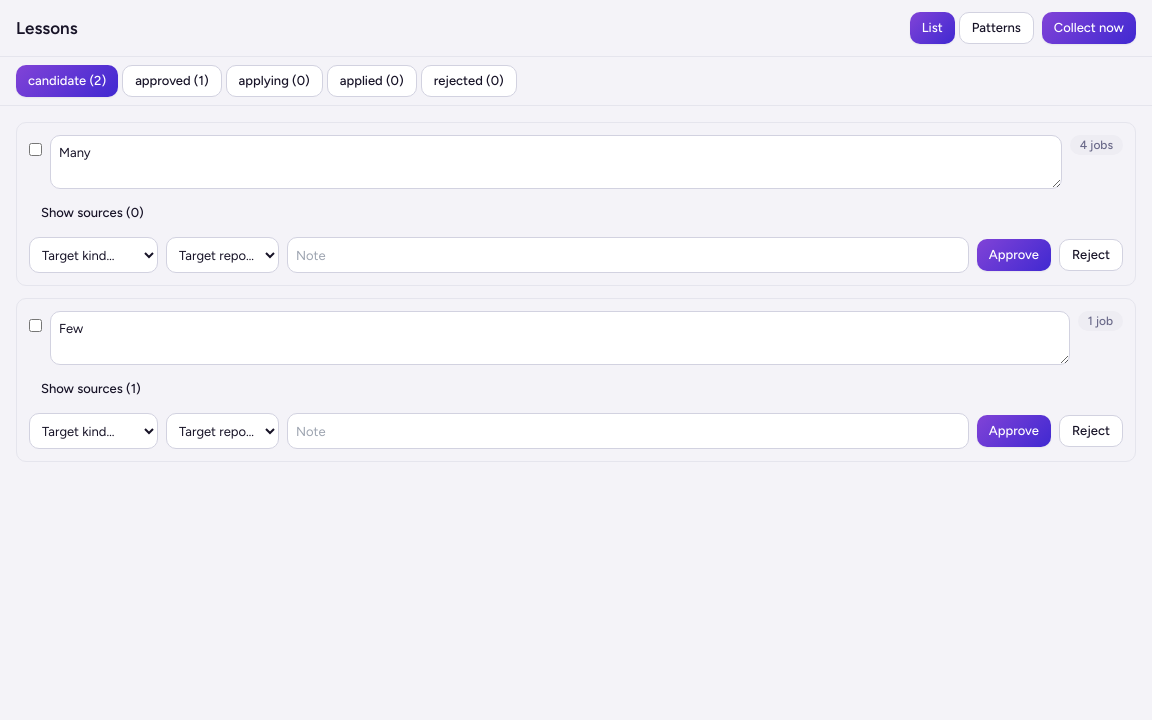
Test: LessonsView › renders lessons with counts, badge, sources and the PR link
This screenshot has width=1152, height=720.
expect the tab "candidate (2)" is shown: met, box x1=16 y1=65 x2=118 y2=97
expect the tab "approved (1)" is shown: met, box x1=122 y1=65 x2=222 y2=97
Click the button "Show sources (1)".
click(91, 389)  # box x1=29 y1=373 x2=153 y2=405
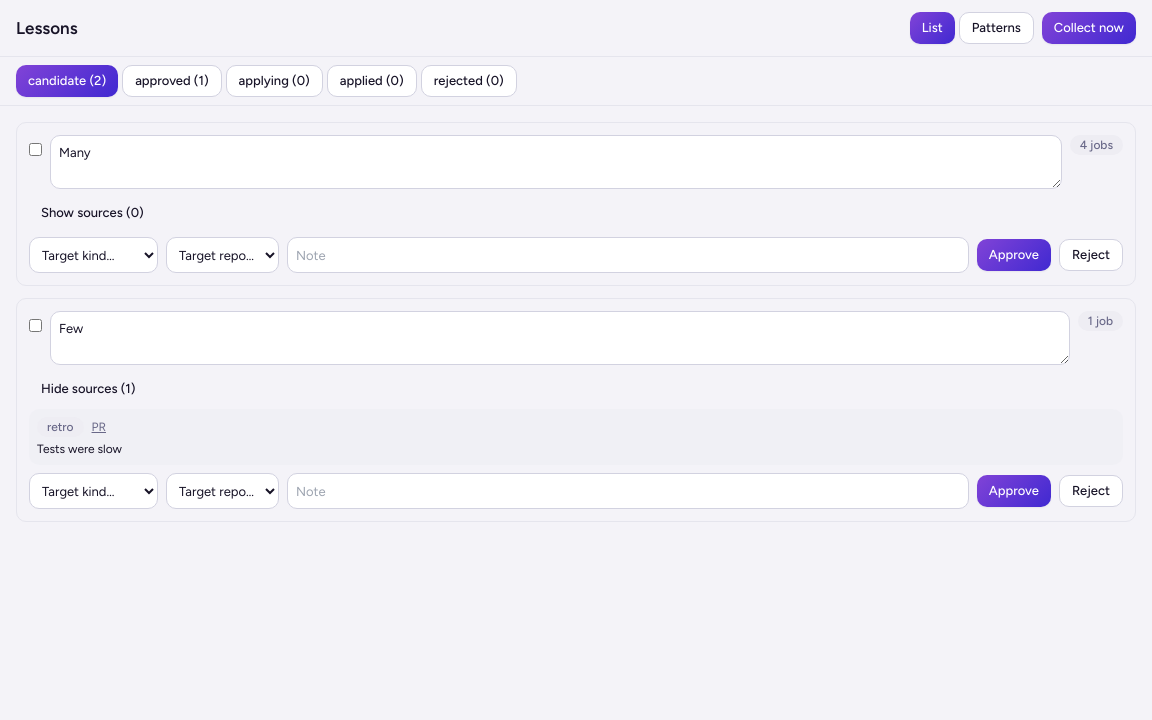
expect the text "Tests were slow" is shown: met, box x1=37 y1=442 x2=122 y2=456
Click the tab "approved (1)".
click(172, 81)  # box x1=122 y1=65 x2=222 y2=97
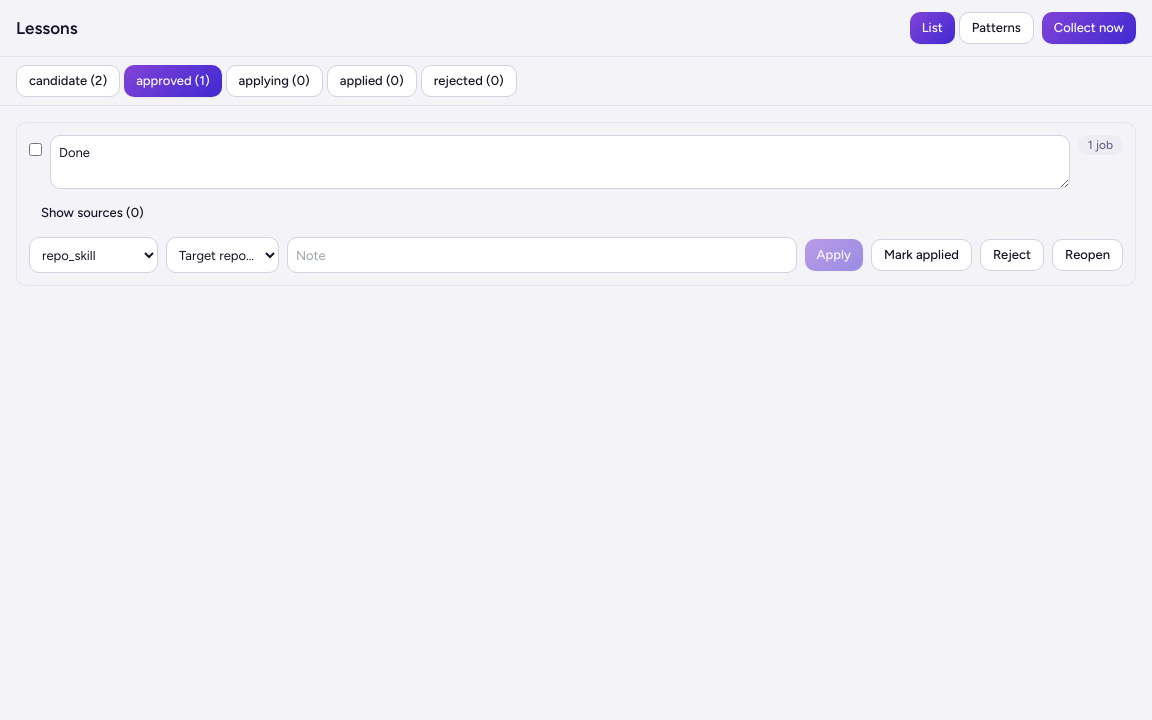
expect the dropdown named "Target kind" shows "repo_skill": met, box x1=29 y1=237 x2=158 y2=273
expect the button "Reopen" is shown: met, box x1=1052 y1=239 x2=1123 y2=271
